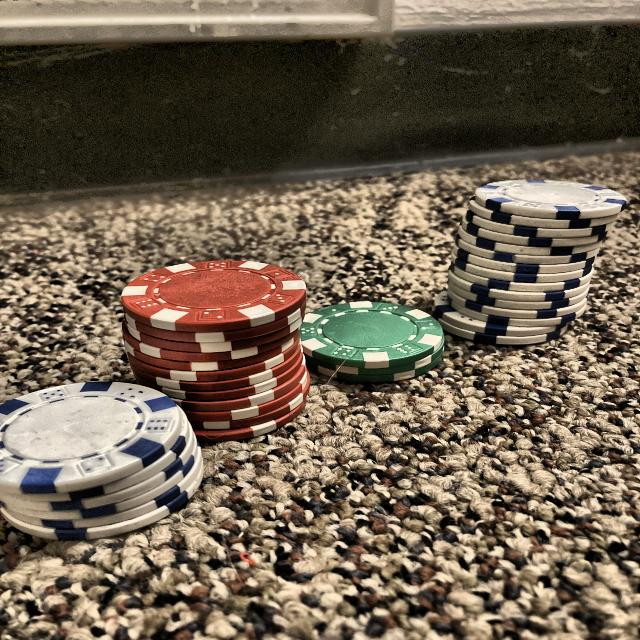Chip: (110, 228, 324, 460), (14, 352, 222, 548), (433, 152, 618, 368), (291, 281, 468, 398)
